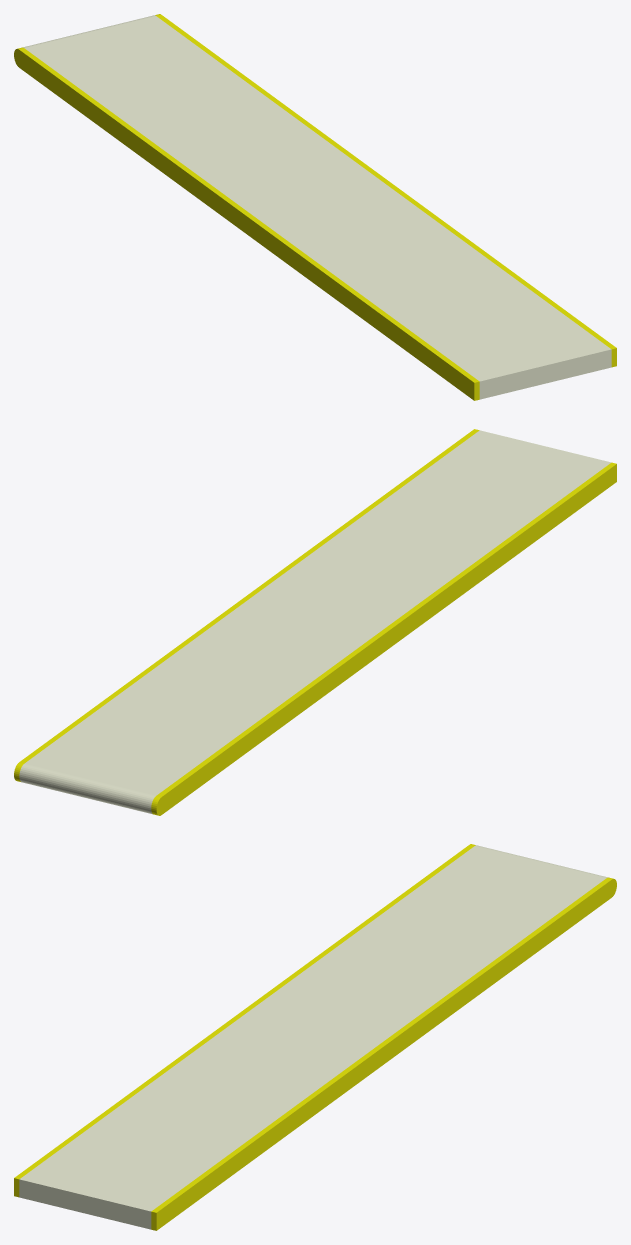
The model's file is EndGame_InvestMachine_V2_Roll.fbx.
3 renders of one model, top to bottom at view 1: azimuth 30°, elevation 25°; view 2: azimuth 150°, elevation 25°; view 3: azimuth 330°, elevation 25°, orthographic.
Parts seen in each view (by area): view 1: Roll_Belt; view 2: Roll_Belt; view 3: Roll_Belt.
Part boxes in pixels (x1=…): Roll_Belt: x1=14, y1=14, x2=616, y2=400; Roll_Belt: x1=14, y1=429, x2=616, y2=815; Roll_Belt: x1=14, y1=844, x2=616, y2=1230.
Size of the model in its own units: 1000 by 121 by 5597.
